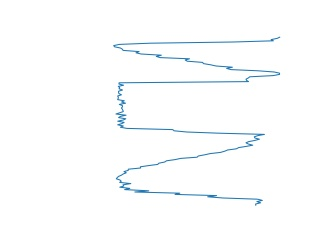distributaryChannelFill: (111, 72, 268, 141)
mouthBar: (110, 36, 283, 78)
underwaterDistributaryChannel: (112, 139, 265, 207)
